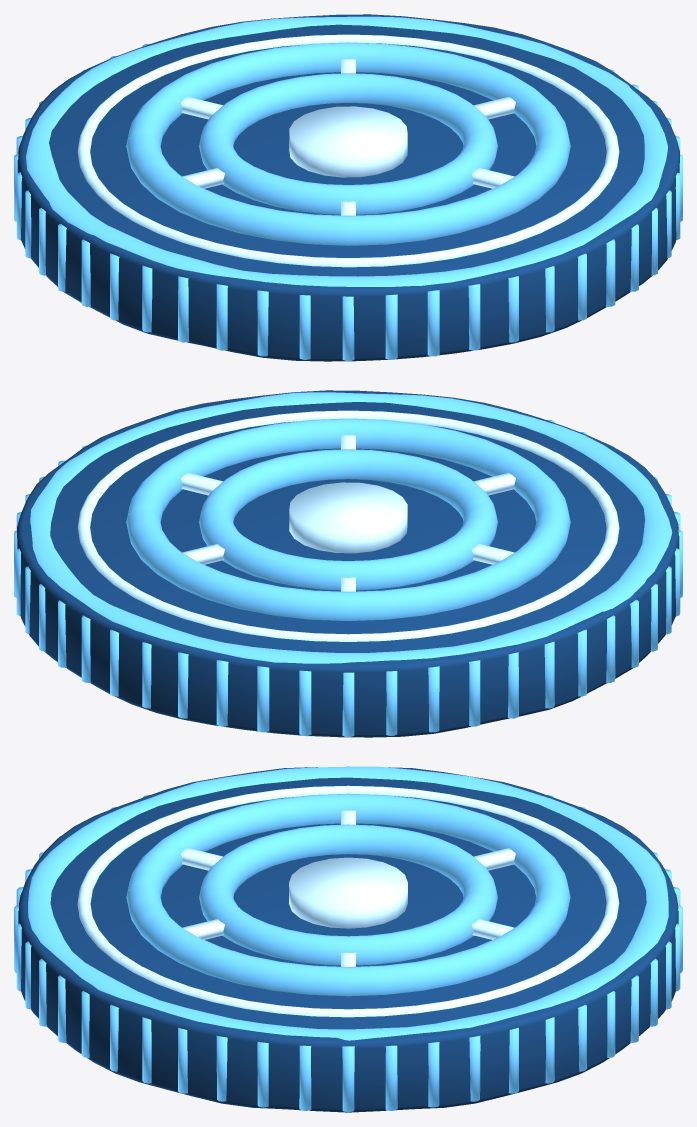
Rendered from token-voltaic_coil.glb.
3 views of the same model, one above another, from view 1: azimuth 30°, elevation 25°; view 2: azimuth 150°, elevation 25°; view 3: azimuth 270°, elevation 25° (orthographic).
Visible parts, largest first — view 1: TokenBody, Torus.004, TopRim, Torus.005, TopRim_Inner, Cylinder, EdgeReed_34, EdgeReed_33, EdgeReed_35, EdgeReed_32, EdgeReed_29, EdgeReed_31 (+15 smaller); view 2: TokenBody, Torus.004, TopRim, Torus.005, TopRim_Inner, Cylinder, EdgeReed_14, EdgeReed_15, EdgeReed_13, EdgeReed_16, EdgeReed_19, EdgeReed_17 (+15 smaller); view 3: TokenBody, Torus.004, TopRim, Torus.005, TopRim_Inner, Cylinder, EdgeReed_0, EdgeReed_1, EdgeReed_47, EdgeReed_2, EdgeReed_46, EdgeReed_3 (+16 smaller).
Part boxes in pixels (x1,y1,x2,y2): TokenBody: (17,14,679,361); Torus.004: (126,42,570,245); TopRim: (26,16,667,286); Torus.005: (199,73,497,214); TopRim_Inner: (77,34,619,267); Cylinder: (289,106,407,177); EdgeReed_34: (427,290,439,356); EdgeReed_33: (385,294,397,359); EdgeReed_35: (468,284,480,350); EdgeReed_32: (342,296,354,360); EdgeReed_29: (216,284,227,350); EdgeReed_31: (299,295,310,359); TokenBody: (17,390,679,737); Torus.004: (126,418,570,620); TopRim: (30,392,672,663); Torus.005: (199,449,497,590); TopRim_Inner: (77,410,619,641); Cylinder: (289,482,407,553); EdgeReed_14: (257,666,269,732); EdgeReed_15: (299,670,311,735); EdgeReed_13: (216,660,228,726); EdgeReed_16: (342,672,354,737); EdgeReed_19: (469,660,480,726); EdgeReed_17: (386,671,397,735); TokenBody: (18,767,678,1112); Torus.004: (126,793,570,996); TopRim: (28,766,668,1040); Torus.005: (199,824,497,965); TopRim_Inner: (77,785,619,1017); Cylinder: (289,857,407,928); EdgeReed_0: (342,1046,354,1112); EdgeReed_1: (385,1045,397,1110); EdgeReed_47: (299,1045,311,1110); EdgeReed_2: (428,1042,439,1107); EdgeReed_46: (257,1042,268,1107); EdgeReed_3: (469,1035,480,1101).
Bounding box in the file's own units: 2.02 × 0.3836 × 2.02.
